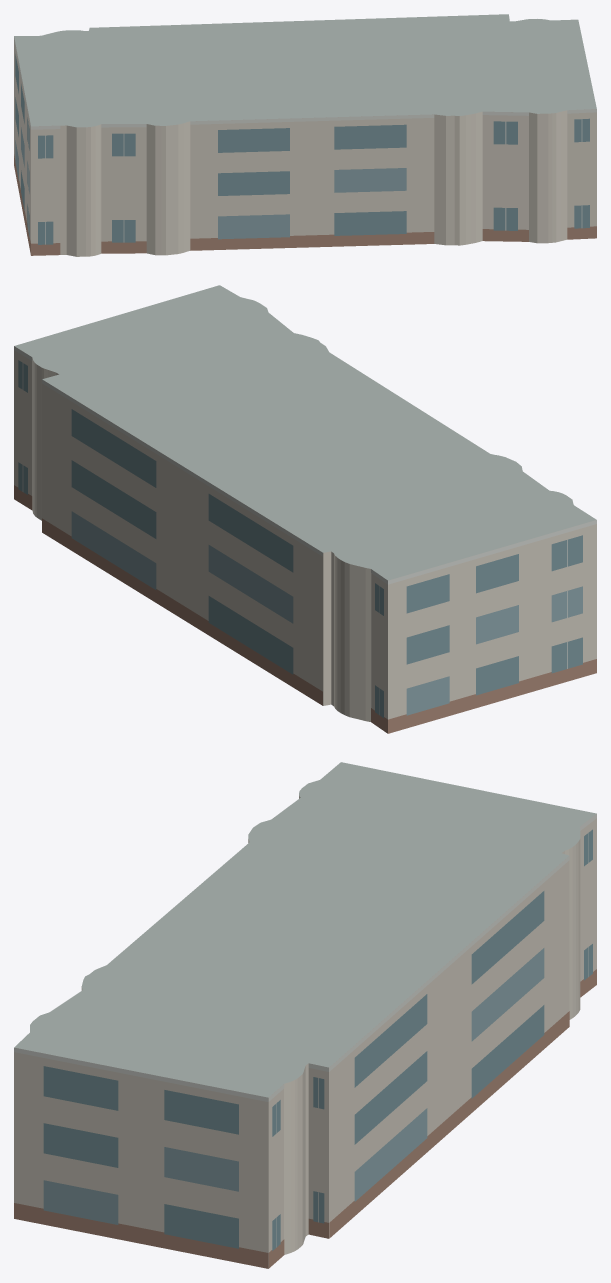
File: survey-upis-32842958.glb
3 views of the same model, one above another, from view 1: azimuth 30°, elevation 25°; view 2: azimuth 150°, elevation 25°; view 3: azimuth 270°, elevation 25° (orthographic). The views are drawn at different scales.
Visible parts, largest first — view 1: survey-upis-32842958.tmp; view 2: survey-upis-32842958.tmp; view 3: survey-upis-32842958.tmp.
Part boxes in pixels (x1,y1,x2,y2): survey-upis-32842958.tmp: (14, 14, 596, 256); survey-upis-32842958.tmp: (14, 285, 596, 733); survey-upis-32842958.tmp: (14, 762, 596, 1268).
Bounding box in the file's own units: 38.46 × 9.15 × 28.23.
